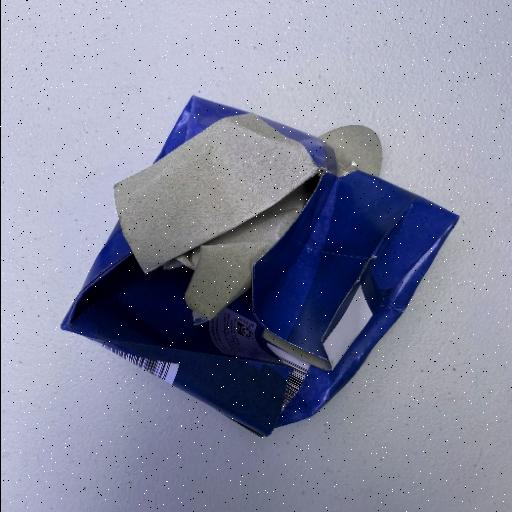Cardboard: (58, 94, 460, 439)
